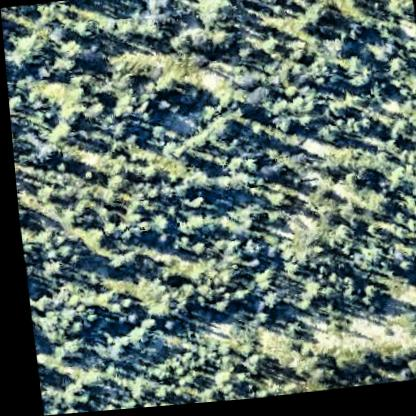tree-top: (3, 24, 54, 73), (125, 274, 172, 322), (46, 86, 86, 131), (326, 348, 367, 383), (192, 0, 235, 30), (54, 37, 88, 69), (53, 379, 86, 410), (106, 246, 140, 275), (315, 122, 347, 152), (70, 14, 100, 46), (279, 350, 314, 377), (206, 28, 237, 58), (52, 335, 84, 363), (350, 285, 380, 314), (394, 283, 416, 322), (318, 226, 348, 254), (13, 183, 39, 214), (253, 283, 279, 312), (87, 286, 113, 313), (301, 7, 328, 33), (182, 27, 209, 51), (35, 139, 60, 164), (151, 74, 176, 99), (146, 212, 169, 239), (97, 338, 121, 363), (233, 239, 259, 262), (247, 85, 269, 112), (183, 238, 207, 262), (225, 285, 249, 308), (182, 130, 205, 154), (238, 358, 262, 380), (181, 171, 206, 192), (257, 293, 280, 315), (126, 327, 149, 349), (362, 224, 383, 248), (209, 369, 229, 393), (91, 221, 117, 239), (386, 369, 408, 388), (41, 256, 63, 275), (106, 170, 126, 190), (404, 314, 416, 345), (388, 60, 406, 80), (7, 92, 22, 115), (409, 259, 416, 282)
